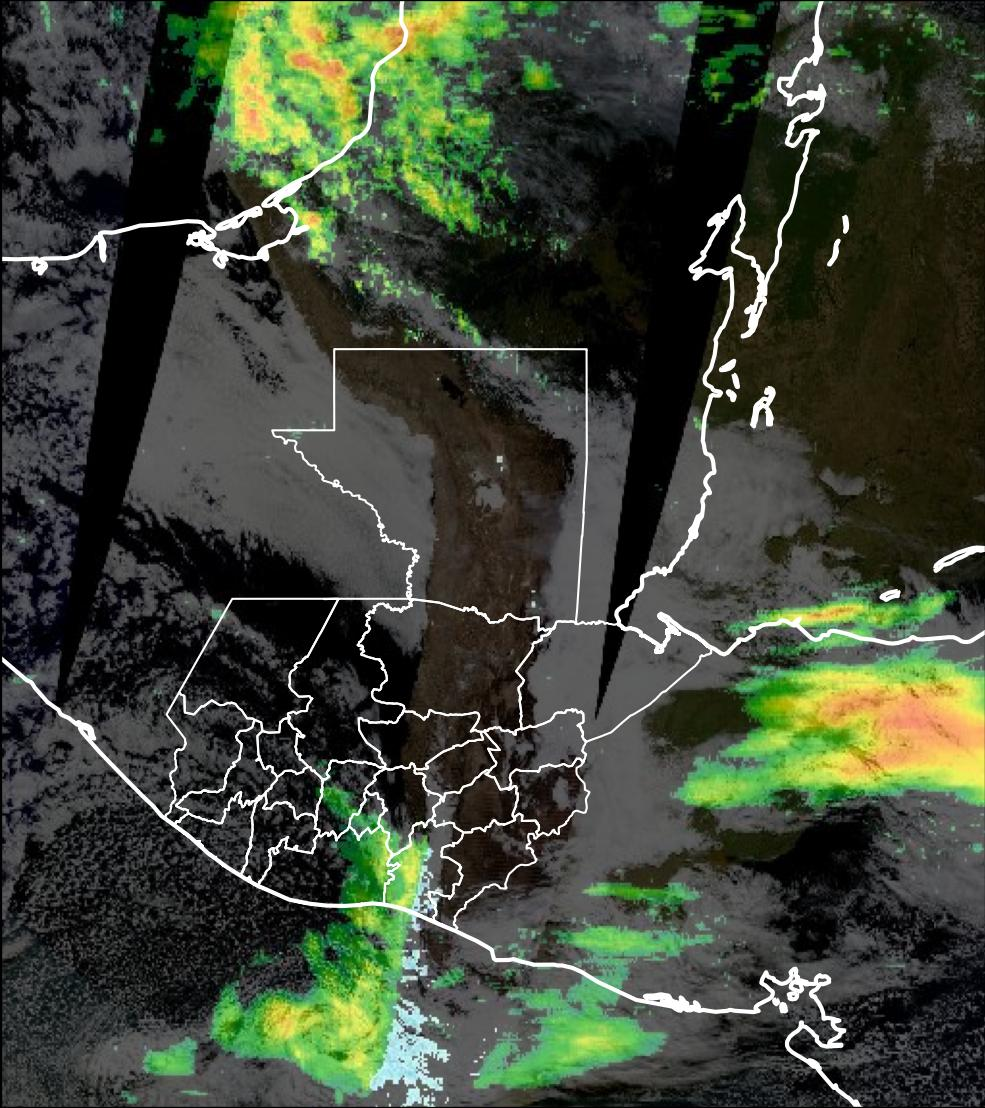precipitacion: (771, 662, 985, 813)
